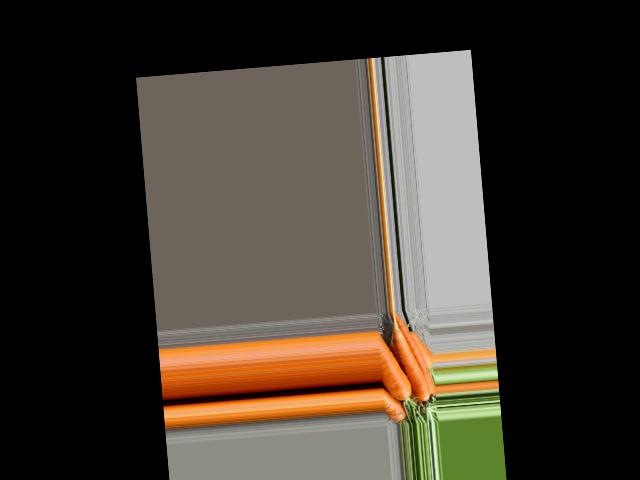carrot: (381, 379, 405, 408)
